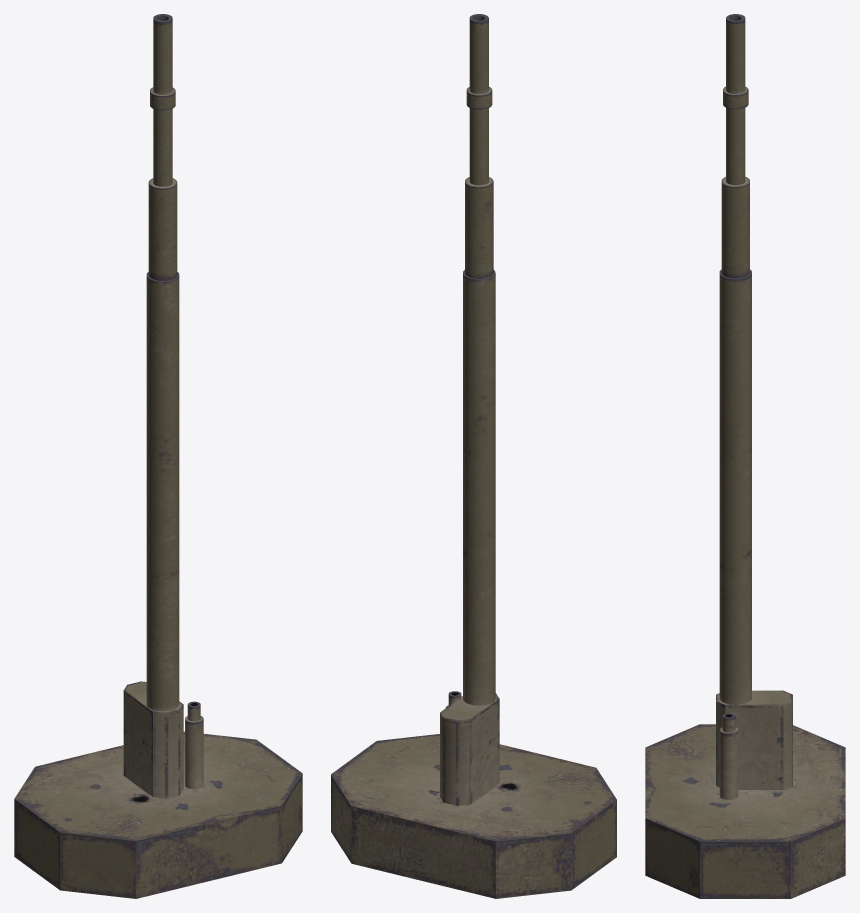
The model's file is Gun_09.glb.
3 renders of one model, left to right at view 1: azimuth 30°, elevation 25°; view 2: azimuth 150°, elevation 25°; view 3: azimuth 270°, elevation 25°, orthographic.
Parts seen in each view (by area): view 1: set_0_group_0; view 2: set_0_group_0; view 3: set_0_group_0.
Part boxes in pixels (bbox=[...]): set_0_group_0: bbox=[14, 14, 302, 898]; set_0_group_0: bbox=[331, 14, 616, 898]; set_0_group_0: bbox=[645, 14, 845, 898].
Size of the model in its own units: 0.5595 by 1.83 by 0.4049.
1 material, 1 textured.
